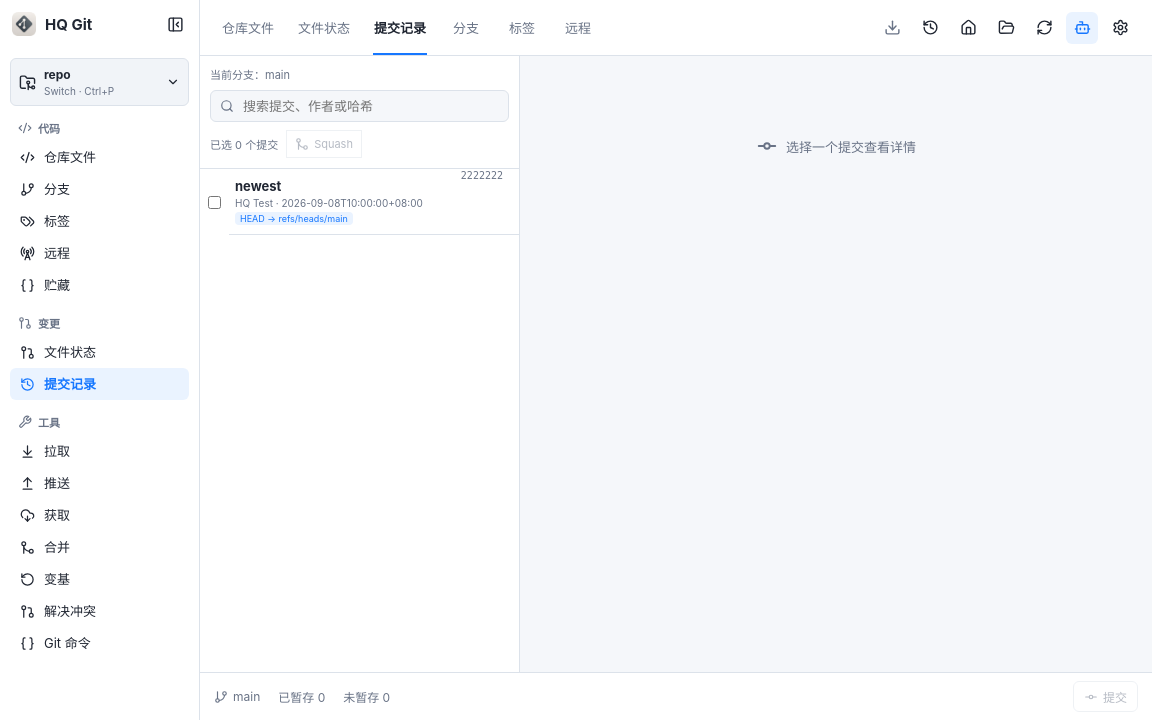
it: history workbench › only reverts after confirmation and refreshes history after success
The image size is (1152, 720).
Click the button that starts with "newest". click: click(374, 202)
box: [229, 169, 519, 235]
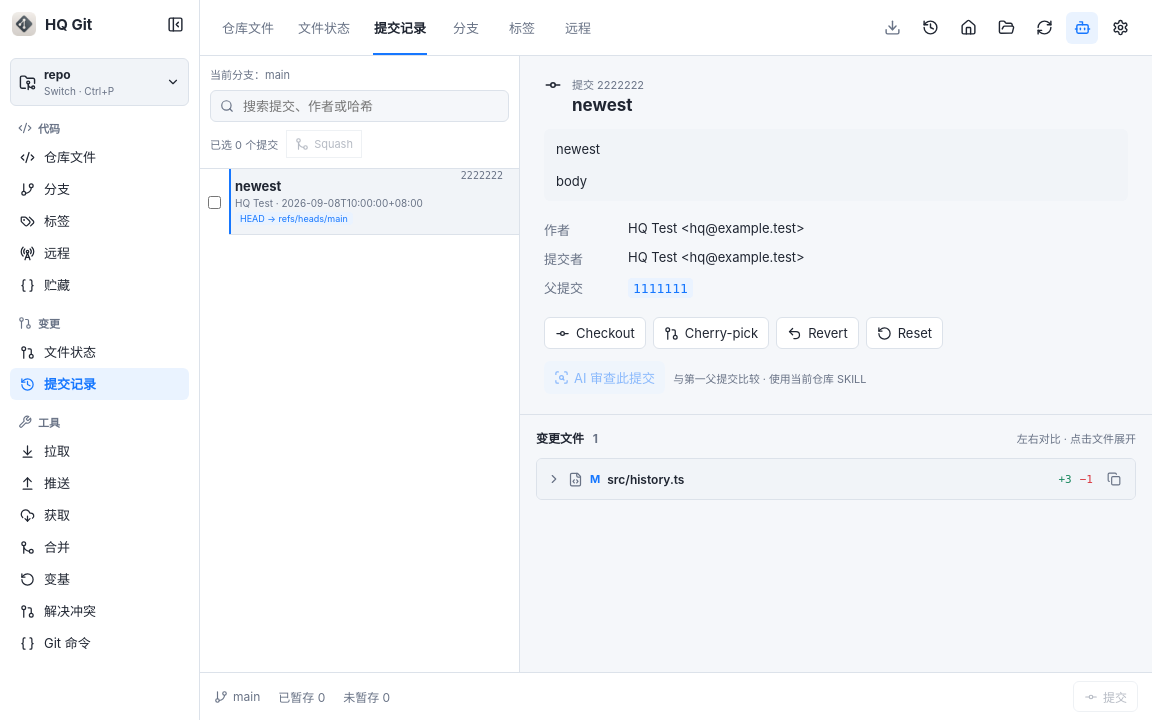
Click the button with aria-label "Revert 提交 2222222". click: click(817, 333)
box: [776, 317, 859, 349]
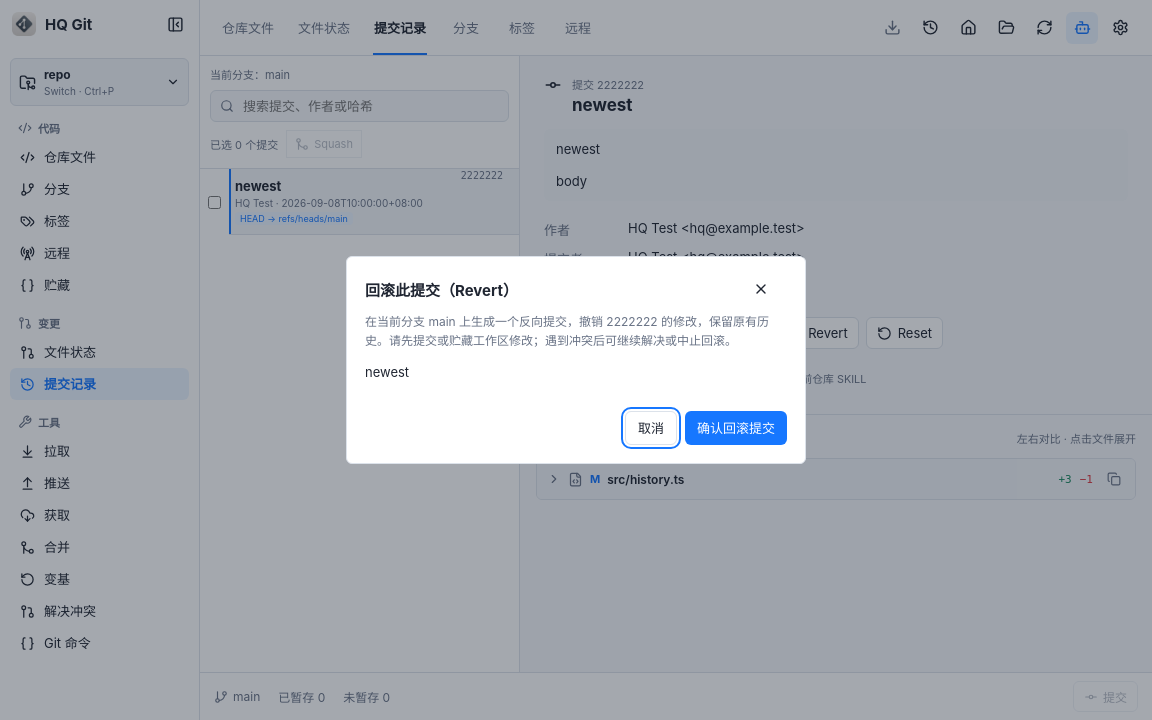
Expected: the text "保留原有历史" is shown, [365, 314, 769, 348]
Click the button with aria-label "取消". click: click(651, 428)
box: [625, 411, 677, 445]
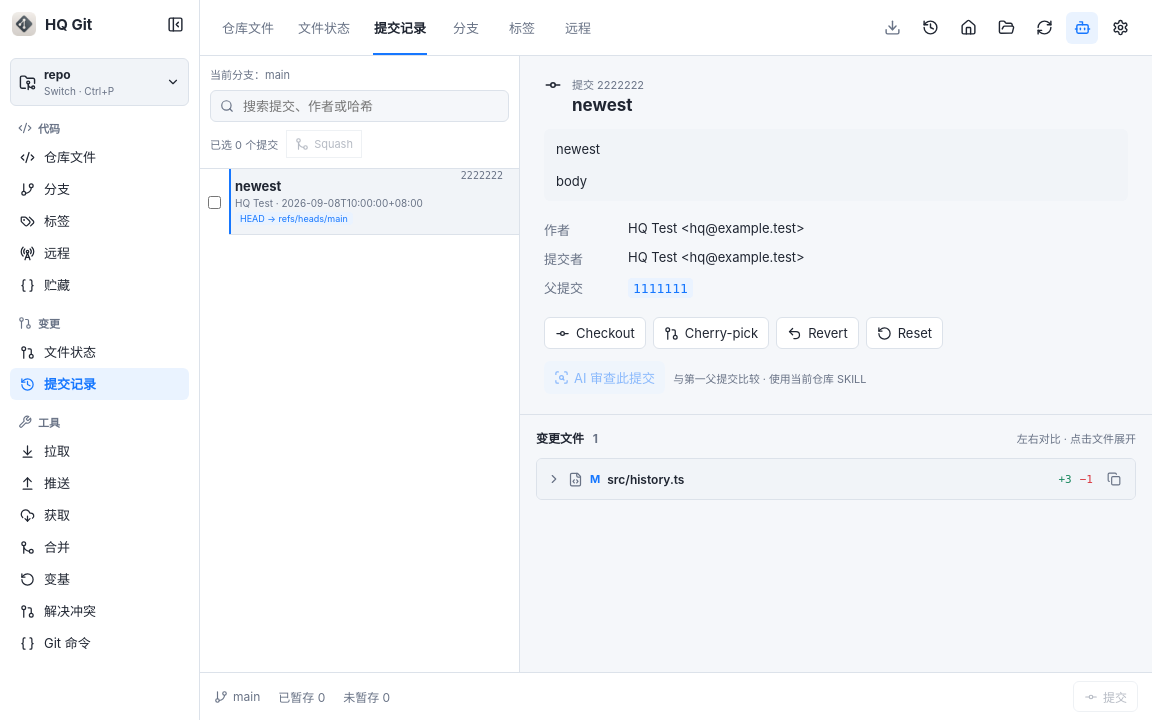
Click the button with aria-label "Revert 提交 2222222". click: click(817, 333)
box: [776, 317, 859, 349]
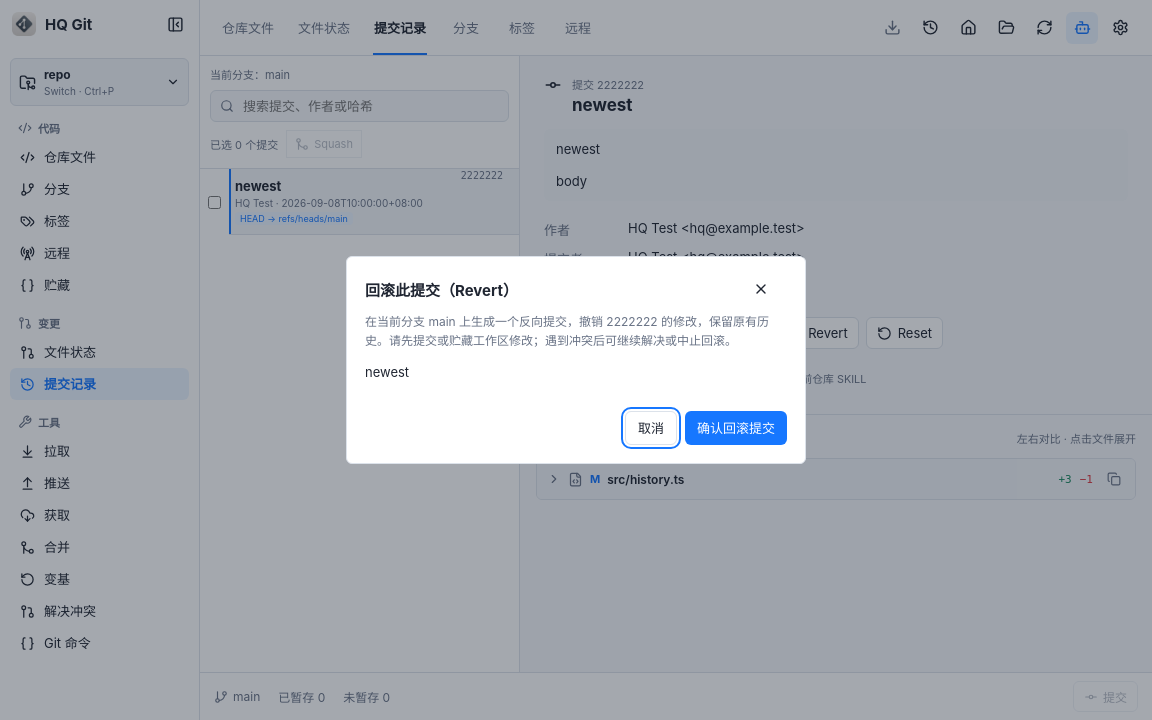
Click the button with aria-label "确认回滚提交". click: click(736, 428)
box: [685, 411, 787, 445]
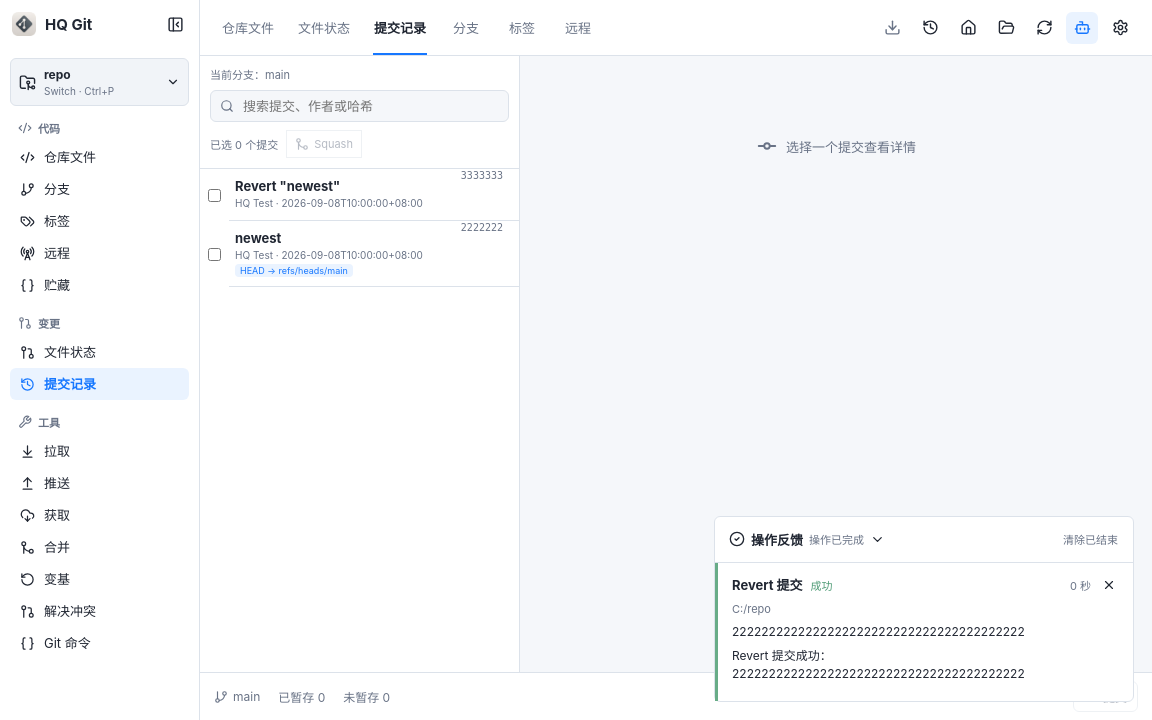
Expected: the text "Revert \"newest\"" is shown, [235, 178, 340, 194]
